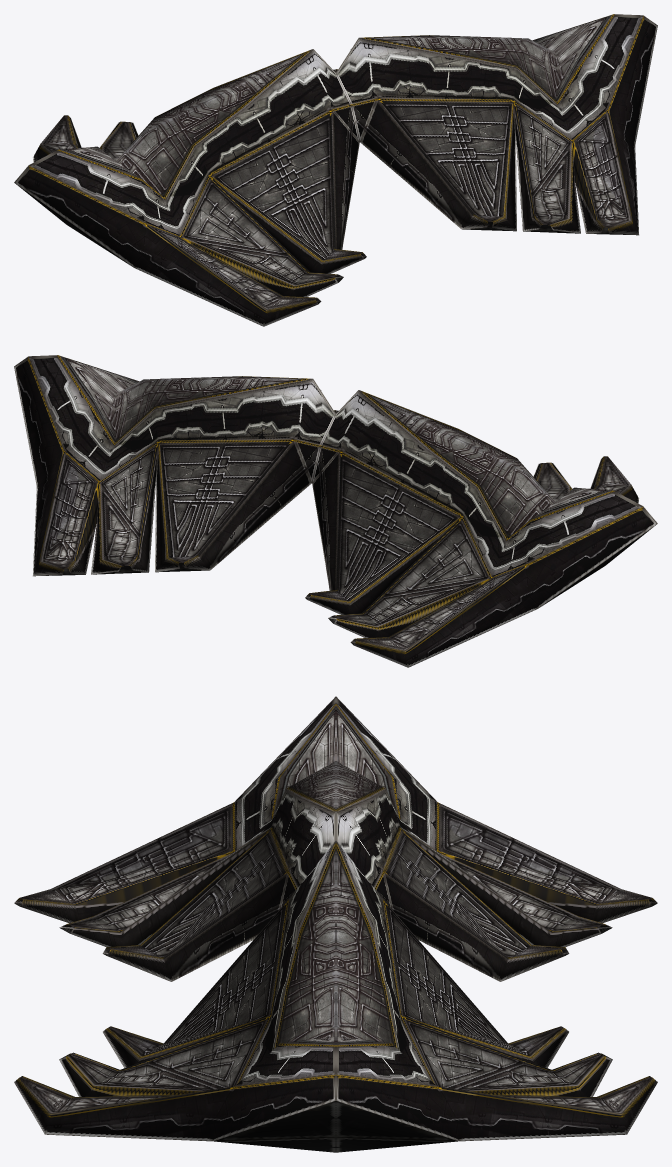
File: Level4VerticalCap.fbx
3 views of the same model, one above another, from view 1: azimuth 30°, elevation 25°; view 2: azimuth 150°, elevation 25°; view 3: azimuth 270°, elevation 25° (orthographic). The views are drawn at different scales.
Visible parts, largest first — view 1: Mesh_001; view 2: Mesh_001; view 3: Mesh_001.
Part boxes in pixels (x1=…): Mesh_001: x1=14, y1=14, x2=657, y2=326; Mesh_001: x1=14, y1=355, x2=657, y2=667; Mesh_001: x1=14, y1=696, x2=657, y2=1152.
Size of the model in its own units: 20.52 by 4.67 by 14.1.
Materials: 1 (1 with a texture image).
